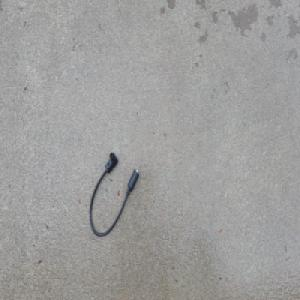Wire: (89, 150, 140, 236)
